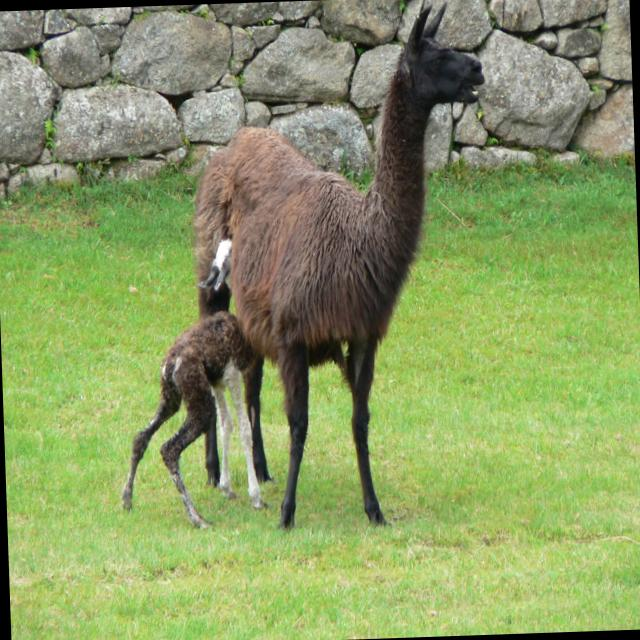alpaca: (186, 0, 498, 529)
